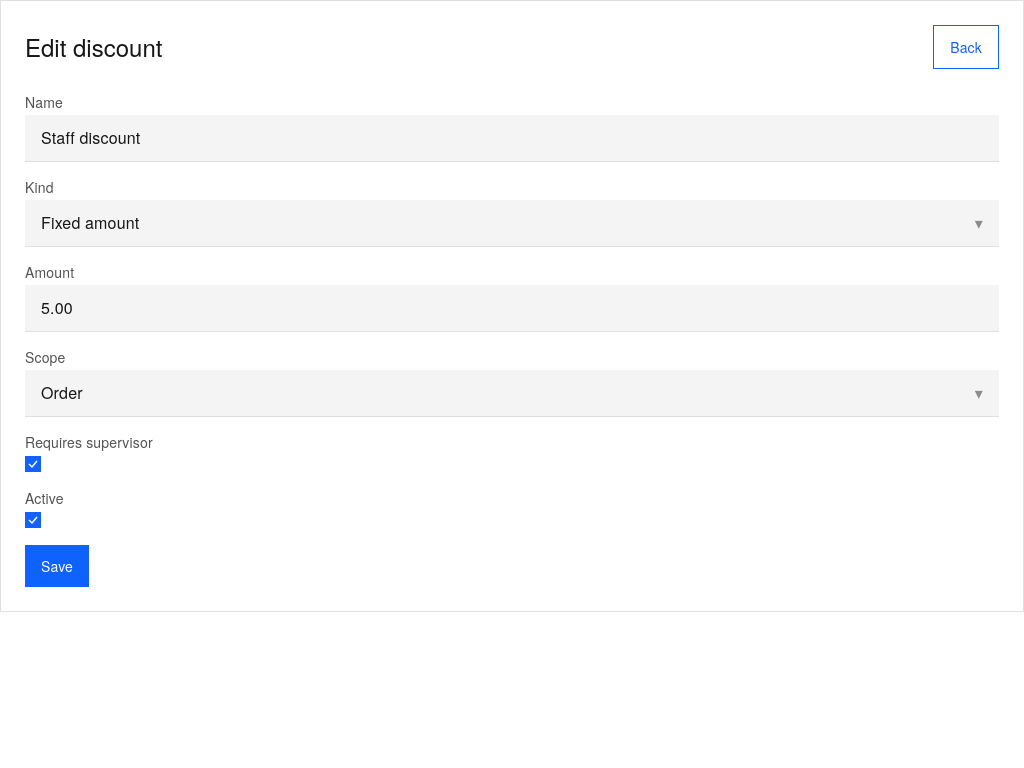
Test: DiscountEditor › cancelling the archive ConfirmDialog blocks the save
The image size is (1024, 768).
Click the checkbox named "active" below "Active": (33, 520) x1=25 y1=512 x2=41 y2=528
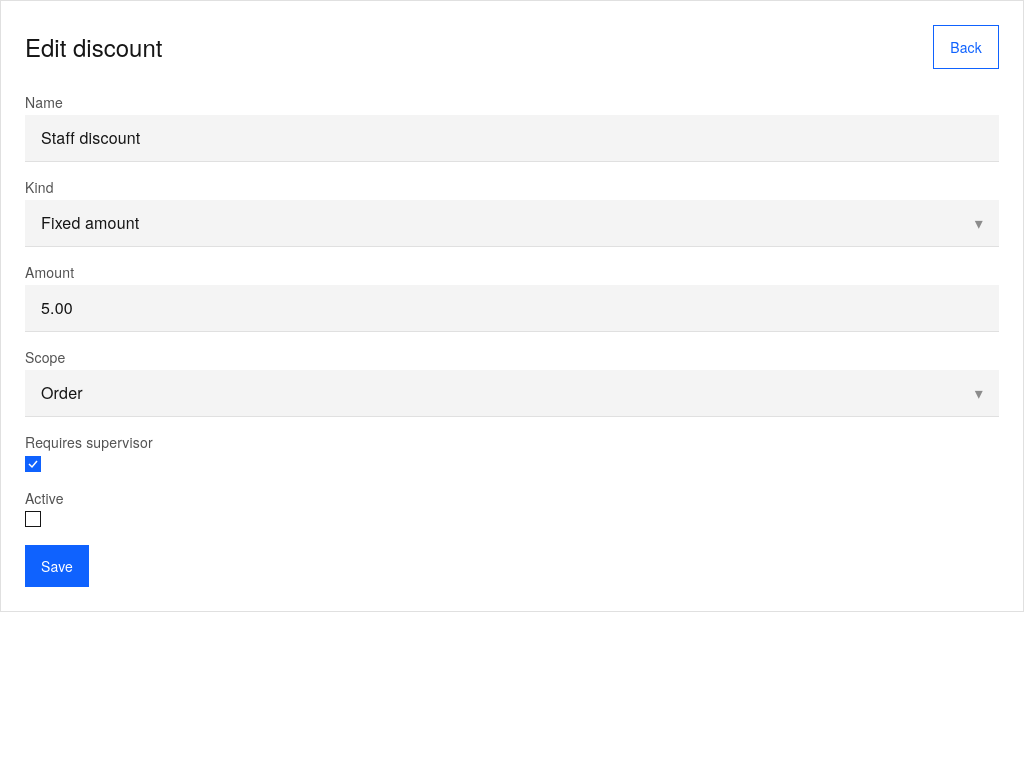
Click the button "Save": (57, 566) x1=25 y1=545 x2=89 y2=587
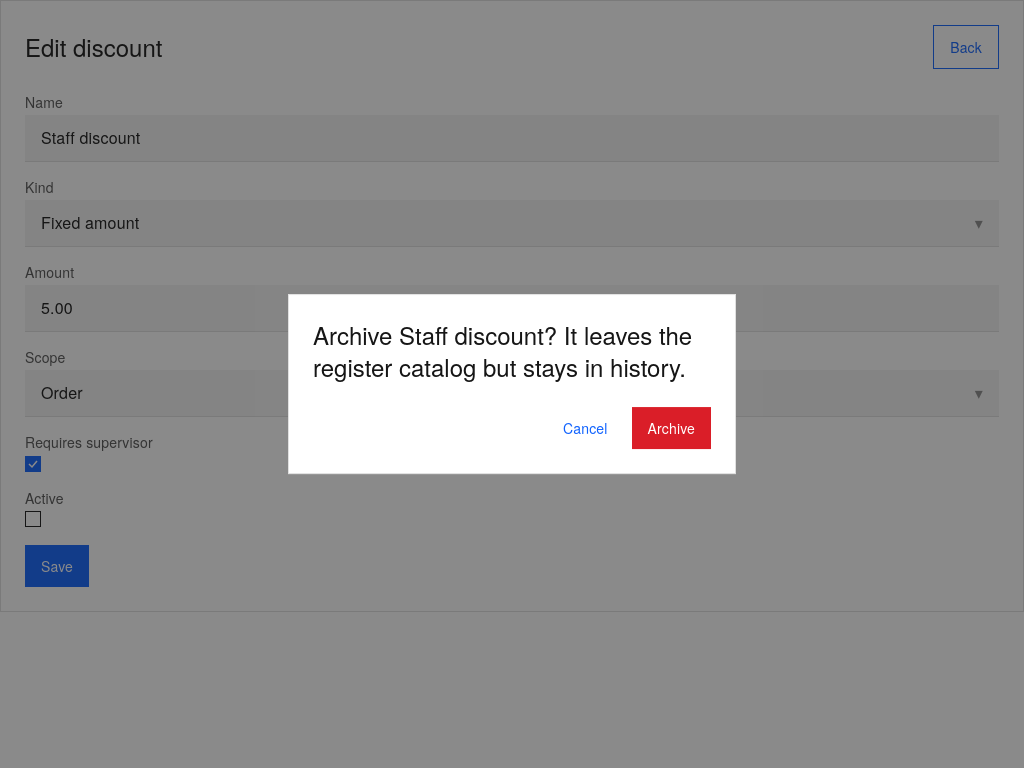
Result: the heading "Archive Staff discount? It leaves the register catalog but stays in history." is shown at x1=313 y1=319 x2=711 y2=383
Click the button "Cancel": (585, 428) x1=547 y1=407 x2=624 y2=449
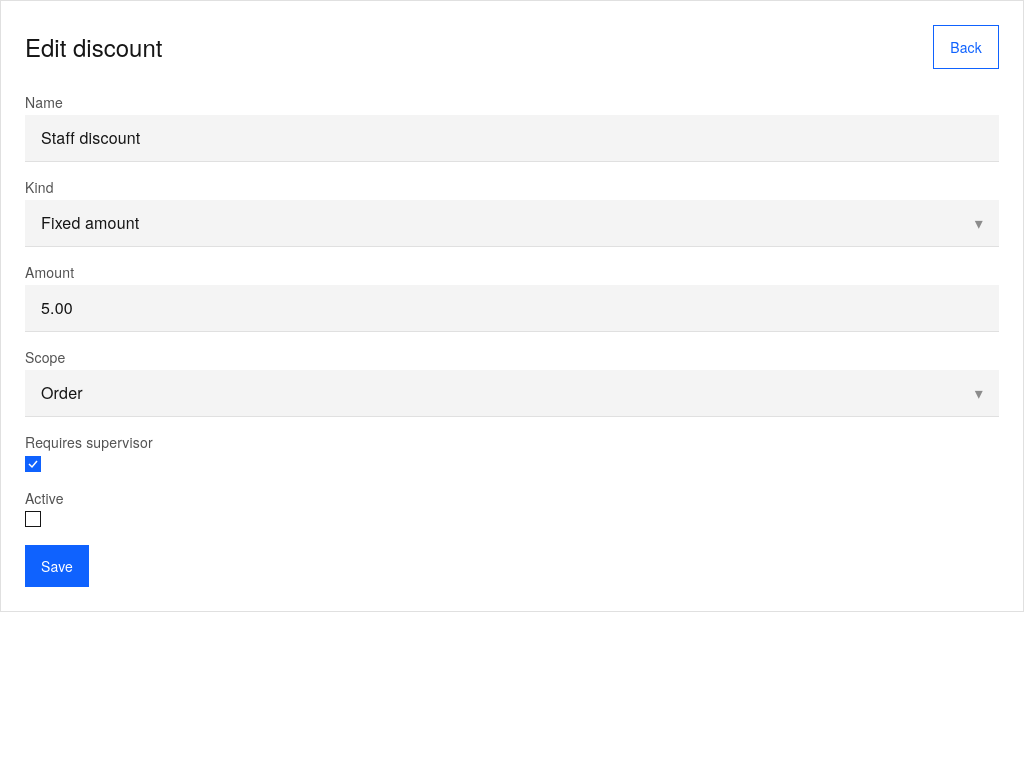
Result: the dialog is gone
